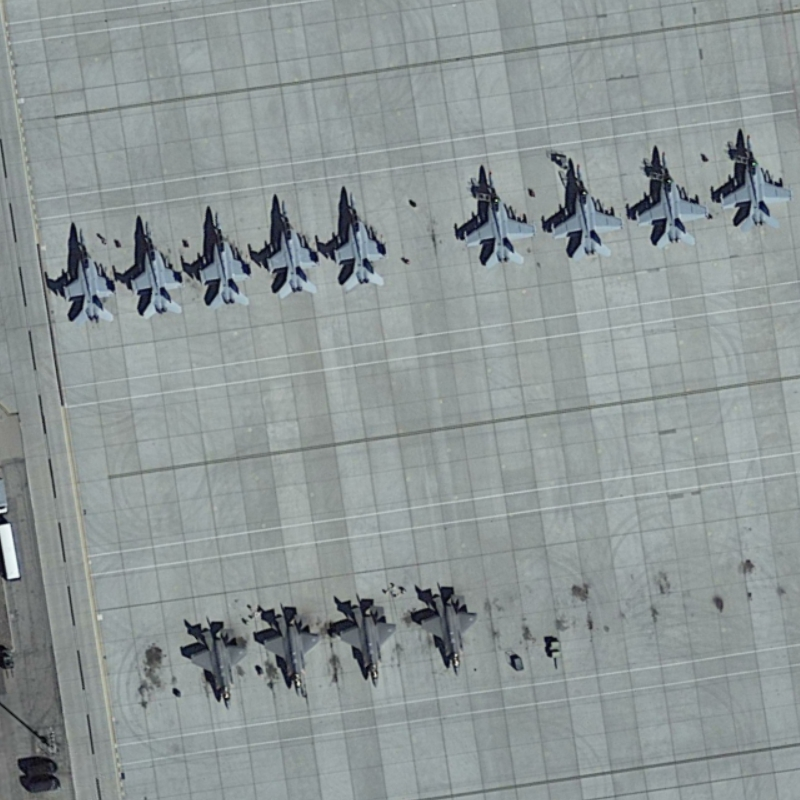A15: (404, 578, 489, 681), (182, 614, 253, 717), (330, 594, 406, 690), (250, 603, 323, 699)
A16: (628, 144, 715, 255), (540, 156, 628, 265), (40, 215, 124, 327), (707, 129, 795, 232), (459, 166, 540, 273), (323, 184, 398, 296), (253, 196, 327, 305), (124, 214, 197, 318), (193, 205, 260, 313)
